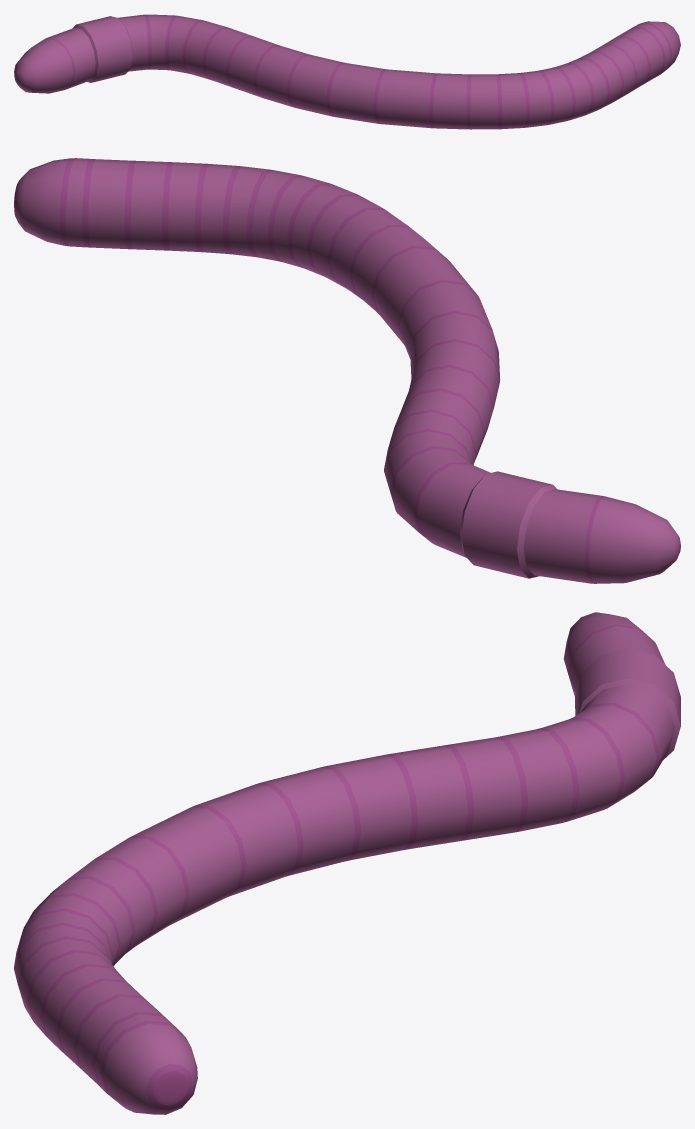
File: robak.fbx
3 renders of one model, top to bottom at view 1: azimuth 30°, elevation 25°; view 2: azimuth 150°, elevation 25°; view 3: azimuth 270°, elevation 25°, orthographic. The views are drawn at different scales.
Visible parts, largest first — view 1: BezierCurve; view 2: BezierCurve; view 3: BezierCurve.
Boxes of the visible parts, box(x1,y1,x2,y2) form: BezierCurve: box(14, 14, 680, 129); BezierCurve: box(14, 158, 680, 583); BezierCurve: box(14, 612, 680, 1114).
Size of the model in its own units: 1096 by 107 by 672.
